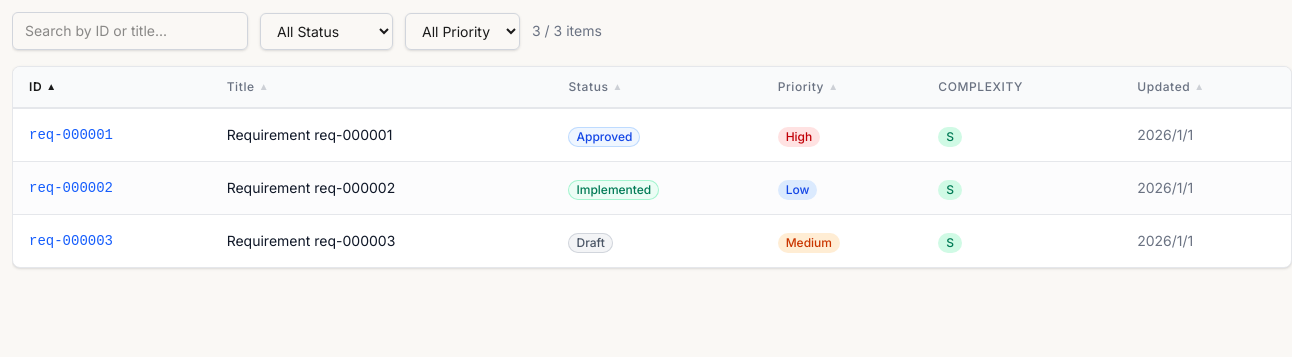
RequirementTable - 空状態UI › リセットボタンクリックでフィルタが解除され全件表示に戻る
Type "nonexistent-xyz-abc" into the field. click: (130, 31)
box: [12,12,248,50]
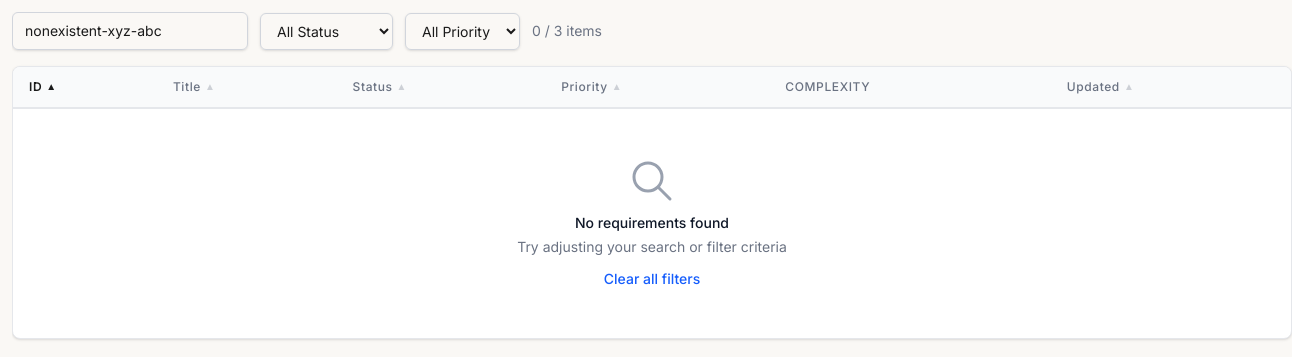
Click the button "Clear all filters". click: (652, 279)
box: [604,269,700,289]
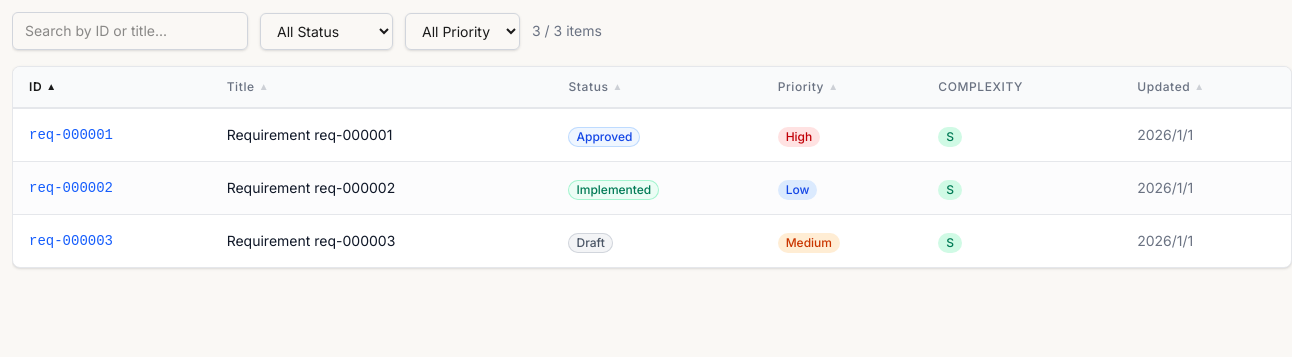
Now the text "No requirements found" is gone
Now the link "Requirement req-000001" is shown, box [227,126,392,143]
